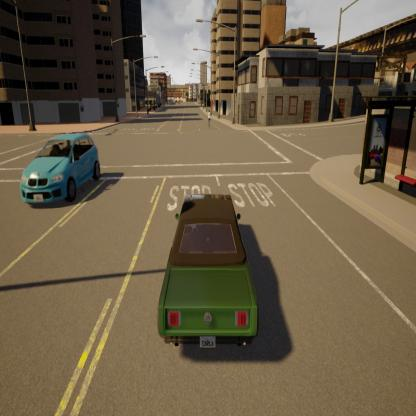Cars: (148, 175, 262, 362), (22, 127, 104, 214)
